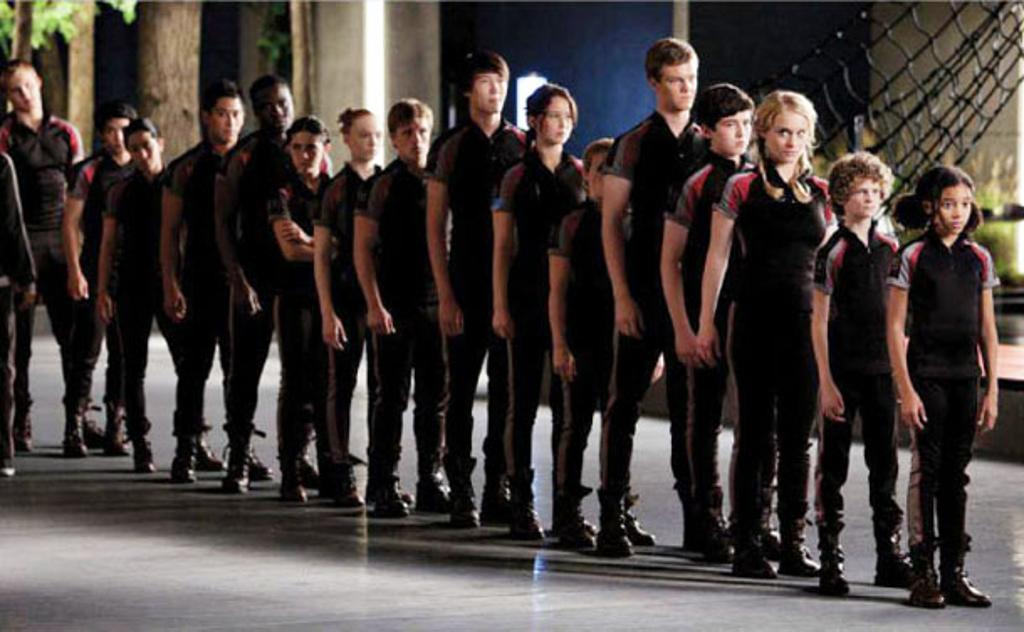face: (766, 112, 807, 163), (713, 108, 752, 153), (935, 185, 970, 234), (590, 154, 625, 199), (662, 63, 696, 109), (255, 92, 295, 131), (210, 98, 243, 142), (539, 98, 572, 142), (397, 119, 429, 161), (7, 71, 40, 111), (290, 132, 321, 174), (847, 177, 880, 216), (473, 73, 506, 111), (351, 120, 380, 161), (127, 133, 157, 171), (106, 118, 132, 153)
